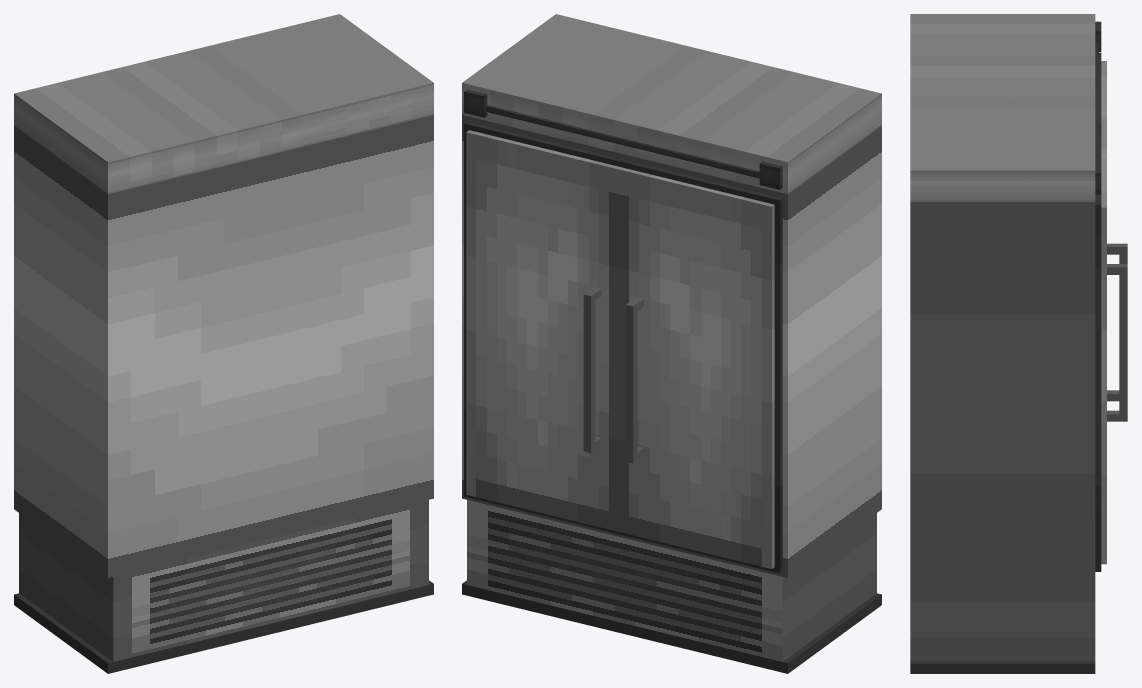
File: nevera.gltf
3 renders of one model, left to right at view 1: azimuth 30°, elevation 25°; view 2: azimuth 150°, elevation 25°; view 3: azimuth 270°, elevation 25°, orthographic.
Parts seen in each view (by area): view 1: cube (×4); view 2: cube (×11); view 3: cube (×9).
Part boxes in pixels (x1=…): cube (×4): x1=14, y1=14, x2=433, y2=673; cube (×11): x1=462, y1=14, x2=881, y2=673; cube (×9): x1=910, y1=14, x2=1127, y2=673.
Bounding box in the file's own units: 2 × 3 × 1.17.
1 material, 1 textured.
